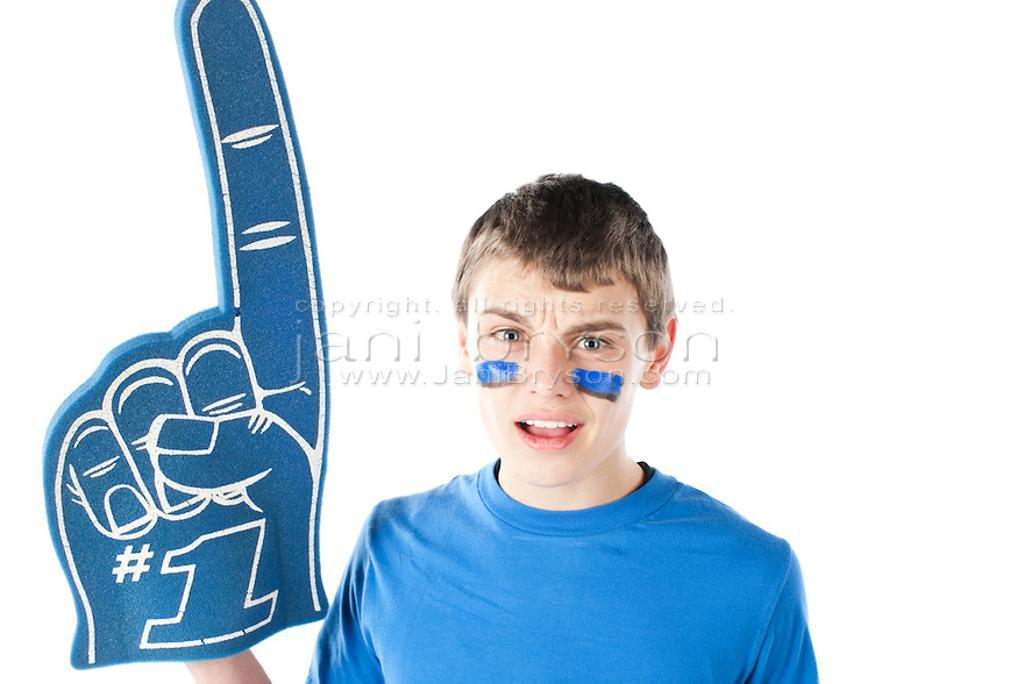face: (471, 243, 641, 487)
